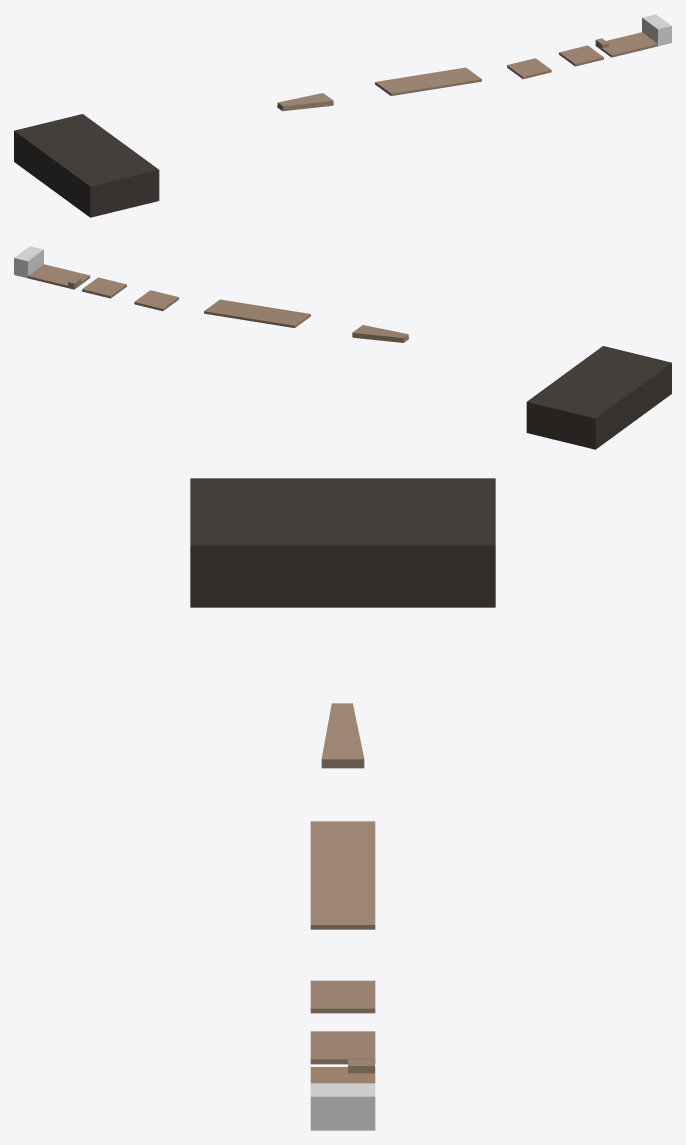
File: stage_ground.fbx
The picture shows the model from 3 angles, top to bottom: view 1: azimuth 30°, elevation 25°; view 2: azimuth 150°, elevation 25°; view 3: azimuth 270°, elevation 25°; orthographic projection. The views are drawn at different scales.
Visible parts, largest first — view 1: 0stair4.002, 4tutorialClear, 1ground, 0start_ground, 2ground.001, 3wireaction, 2ground; view 2: 0stair4.002, 4tutorialClear, 1ground, 0start_ground, 2ground.001, 3wireaction, 2ground; view 3: 0stair4.002, 4tutorialClear, 0start_ground, 2ground.001, 3wireaction, 2ground, 1ground.
Part boxes in pixels (x1,y1,x2,y2): 0stair4.002: [14, 114, 159, 217]; 4tutorialClear: [375, 67, 481, 95]; 1ground: [595, 32, 657, 57]; 0start_ground: [642, 14, 671, 46]; 2ground.001: [277, 93, 333, 111]; 3wireaction: [507, 58, 551, 79]; 2ground: [559, 45, 603, 66]; 0stair4.002: [526, 346, 671, 449]; 4tutorialClear: [204, 299, 310, 327]; 1ground: [28, 264, 90, 289]; 0start_ground: [14, 246, 43, 278]; 2ground.001: [352, 325, 408, 342]; 3wireaction: [134, 290, 178, 311]; 2ground: [82, 277, 126, 298]; 0stair4.002: [190, 478, 495, 607]; 4tutorialClear: [310, 821, 375, 929]; 0start_ground: [310, 1083, 375, 1130]; 2ground.001: [321, 703, 364, 768]; 3wireaction: [310, 980, 375, 1013]; 2ground: [310, 1031, 375, 1064]; 1ground: [310, 1067, 375, 1083].
Bounding box in the file's own units: 2635 × 128 × 570.
